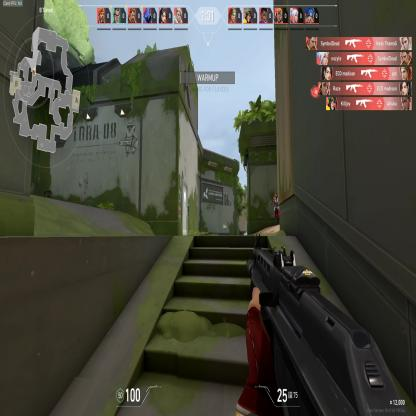enemy: (271, 190, 279, 226)
